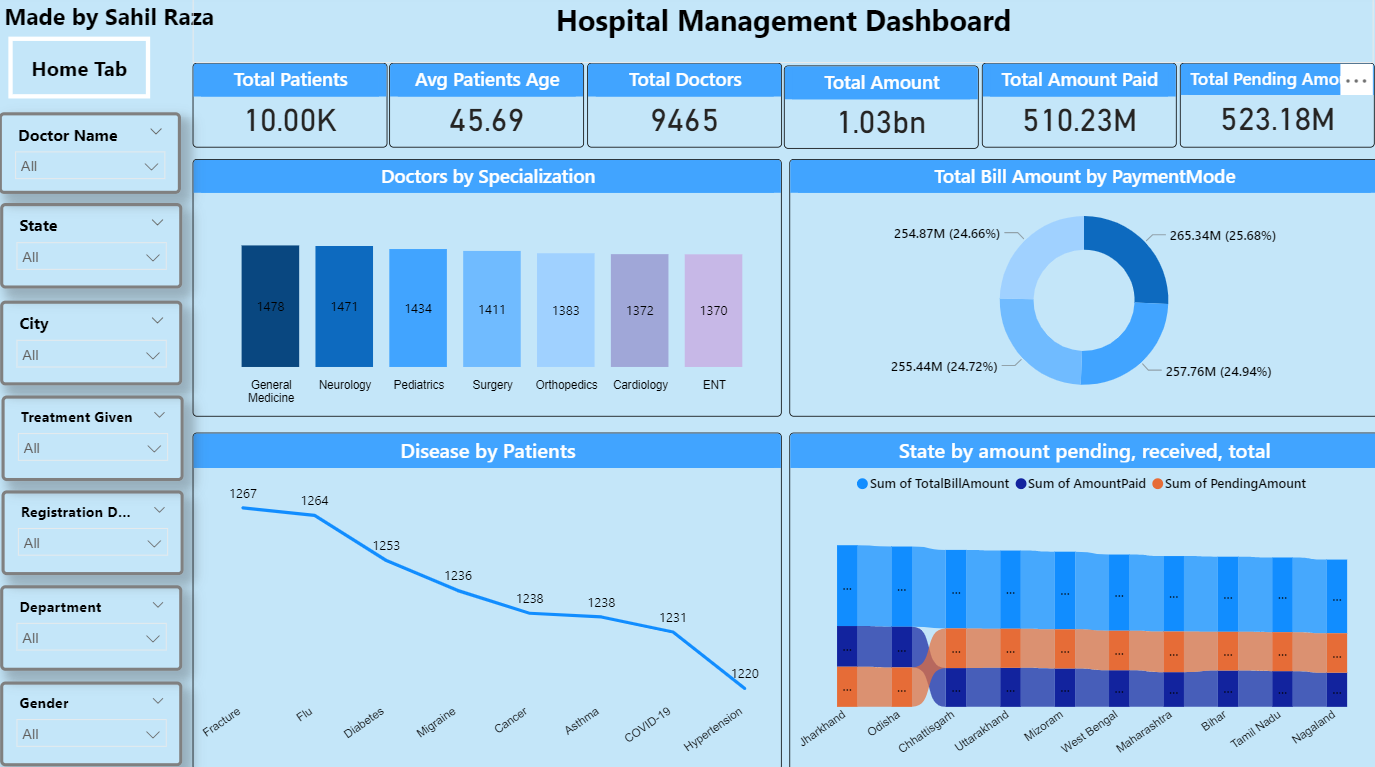

The page's visual inventory and layout, read from the dashboard file:
{"tool":"powerbi","page":{"name":"Hospital Management Dashboard","canvas":[1280,720],"ordinal":1},"visuals":[{"type":"card","title":"Total Patients","fields":{"Values":["Count(Hospital_Management.PatientID)"]},"box":[181.4,64.3,180,78.6],"z":0},{"type":"card","title":"Avg Patients Age","fields":{"Values":["Avg(Hospital_Management.Age)"]},"box":[364.3,64.3,180,78.6],"z":1000},{"type":"card","title":"Total Amount","fields":{"Values":["Sum(Hospital_Management.TotalBillAmount)"]},"box":[730,65.7,180,77.1],"z":2000},{"type":"card","title":"Total Amount Paid","fields":{"Values":["Sum(Hospital_Management.AmountPaid)"]},"box":[912.9,64.3,180,78.6],"z":3000},{"type":"card","title":"Total Pending Amount","fields":{"Values":["Sum(Hospital_Management.PendingAmount)"]},"box":[1095.7,64.3,180,78.6],"z":4000},{"type":"card","title":"Total Doctors","fields":{"Values":["Count(Hospital_Management.DoctorName)"]},"box":[547.1,64.3,180,78.6],"z":5000},{"type":"columnChart","title":"Doctors by Specialization","fields":{"Category":["Hospital_Management.Specialization"],"Y":["Count(Hospital_Management.DoctorName)"],"Series":["Hospital_Management.Specialization"]},"box":[181.4,152.9,545.7,238.6],"z":6000},{"type":"donutChart","title":"Total Bill Amount by PaymentMode","fields":{"Category":["Hospital_Management.PaymentMode"],"Y":["Sum(Hospital_Management.TotalBillAmount)"]},"box":[734.3,152.9,545.7,238.6],"z":7000},{"type":"lineChart","title":"Disease by Patients","fields":{"Category":["Hospital_Management.Disease"],"Y":["Count(Hospital_Management.PatientID)"]},"box":[181.4,405.7,545.7,312.9],"z":8000},{"type":"ribbonChart","title":"State by amount pending, received, total","fields":{"Category":["Hospital_Management.State"],"Y":["Sum(Hospital_Management.TotalBillAmount)","Sum(Hospital_Management.AmountPaid)","Sum(Hospital_Management.PendingAmount)"]},"box":[734.3,405.7,545.7,314.3],"z":9000},{"type":"slicer","fields":{"Values":["Hospital_Management.DoctorName"]},"box":[2.8,108.9,169,75.4],"z":10000},{"type":"slicer","fields":{"Values":["Hospital_Management.State"]},"box":[4.2,194.1,169,79.6],"z":11000},{"type":"slicer","fields":{"Values":["Hospital_Management.City"]},"box":[4.2,283.5,169,78.2],"z":12000},{"type":"slicer","fields":{"Values":["Hospital_Management.TreatmentGiven"]},"box":[5.6,371.5,169,79.6],"z":13000},{"type":"slicer","fields":{"Values":["Hospital_Management.RegistrationDate"]},"box":[5.6,459.5,169,78.2],"z":14000},{"type":"slicer","fields":{"Values":["Hospital_Management.Department"]},"box":[4.2,547.5,169,79.6],"z":15000},{"type":"textbox","box":[2.9,0,217.1,48.6],"z":16000},{"type":"textbox","box":[181.4,0,1094.3,64.3],"z":17000},{"type":"slicer","fields":{"Values":["Hospital_Management.Gender"]},"box":[4.2,636.9,169,78.2],"z":18000},{"type":"actionButton","box":[11.2,39.1,131.3,57.3],"z":19000}]}

Visuals, with their boxes in screenshot pixels (x1, y1, x2, y2), scaled from the page's 1280x720 canvas onto the 1375x767 screenshot:
"Total Patients" card: (195,68,388,152)
"Avg Patients Age" card: (391,68,585,152)
"Total Amount" card: (784,70,978,152)
"Total Amount Paid" card: (981,68,1174,152)
"Total Pending Amount" card: (1177,68,1370,152)
"Total Doctors" card: (588,68,781,152)
"Doctors by Specialization" columnChart: (195,163,781,417)
"Total Bill Amount by PaymentMode" donutChart: (789,163,1374,417)
"Disease by Patients" lineChart: (195,432,781,766)
"State by amount pending, received, total" ribbonChart: (789,432,1374,766)
slicer - Hospital_Management.DoctorName: (3,116,185,196)
slicer - Hospital_Management.State: (5,207,186,292)
slicer - Hospital_Management.City: (5,302,186,385)
slicer - Hospital_Management.TreatmentGiven: (6,396,188,481)
slicer - Hospital_Management.RegistrationDate: (6,489,188,573)
slicer - Hospital_Management.Department: (5,583,186,668)
textbox: (3,0,236,52)
textbox: (195,0,1370,68)
slicer - Hospital_Management.Gender: (5,678,186,762)
actionButton: (12,42,153,103)
